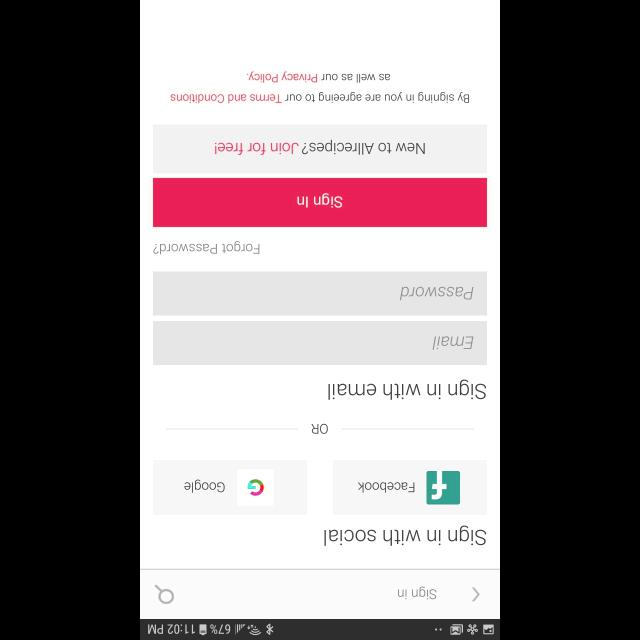icon: (154, 584, 174, 604), (471, 586, 479, 602)
input: (153, 321, 487, 365), (153, 271, 487, 315)
text: (170, 71, 470, 103), (324, 526, 486, 546), (328, 380, 486, 400), (153, 241, 259, 255), (400, 287, 472, 301), (432, 335, 472, 349), (396, 586, 436, 598), (312, 422, 328, 433)
textbutton: (153, 124, 487, 174), (153, 178, 487, 226), (333, 460, 487, 514), (153, 460, 307, 514)
uppertaskbar: (140, 618, 500, 640)
